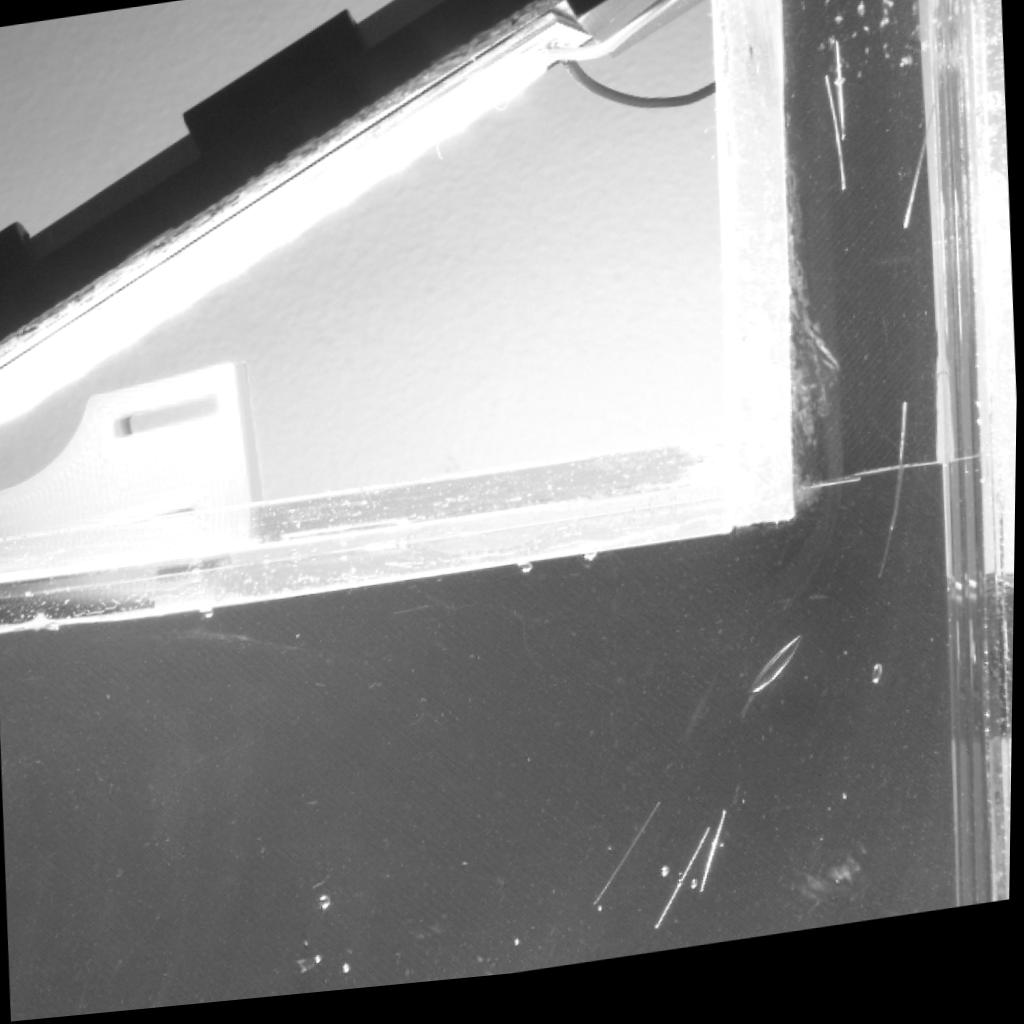Fiber: (596, 812, 667, 917), (656, 841, 714, 943), (900, 112, 940, 244), (877, 476, 910, 600), (823, 89, 849, 209), (701, 824, 732, 904), (894, 412, 912, 542), (833, 52, 846, 154)
